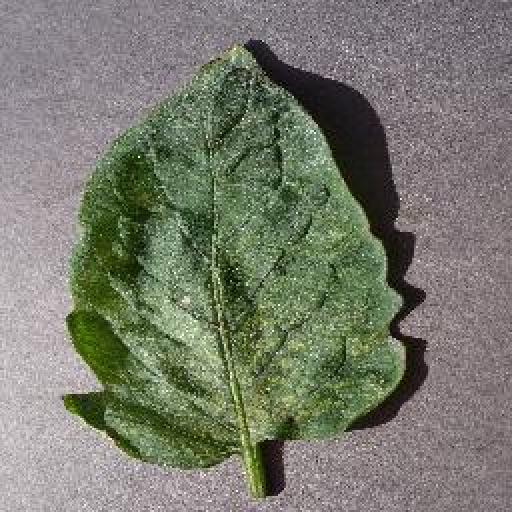disease_tomato: (62, 40, 406, 468)
